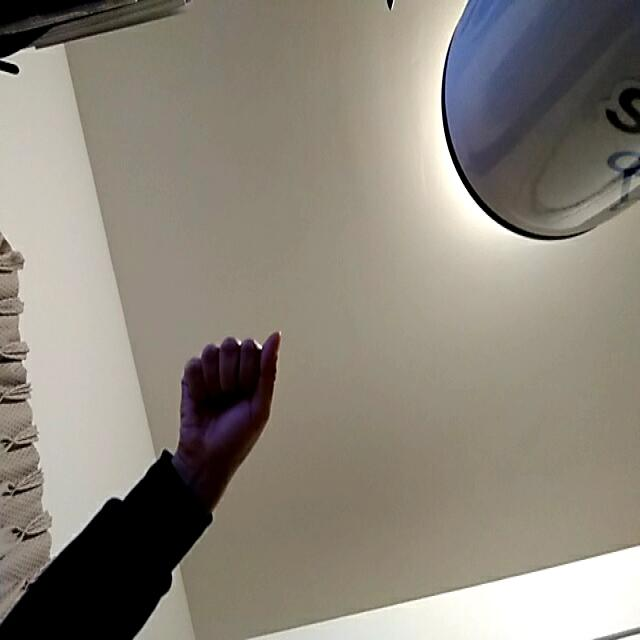A: (150, 296, 319, 495)
